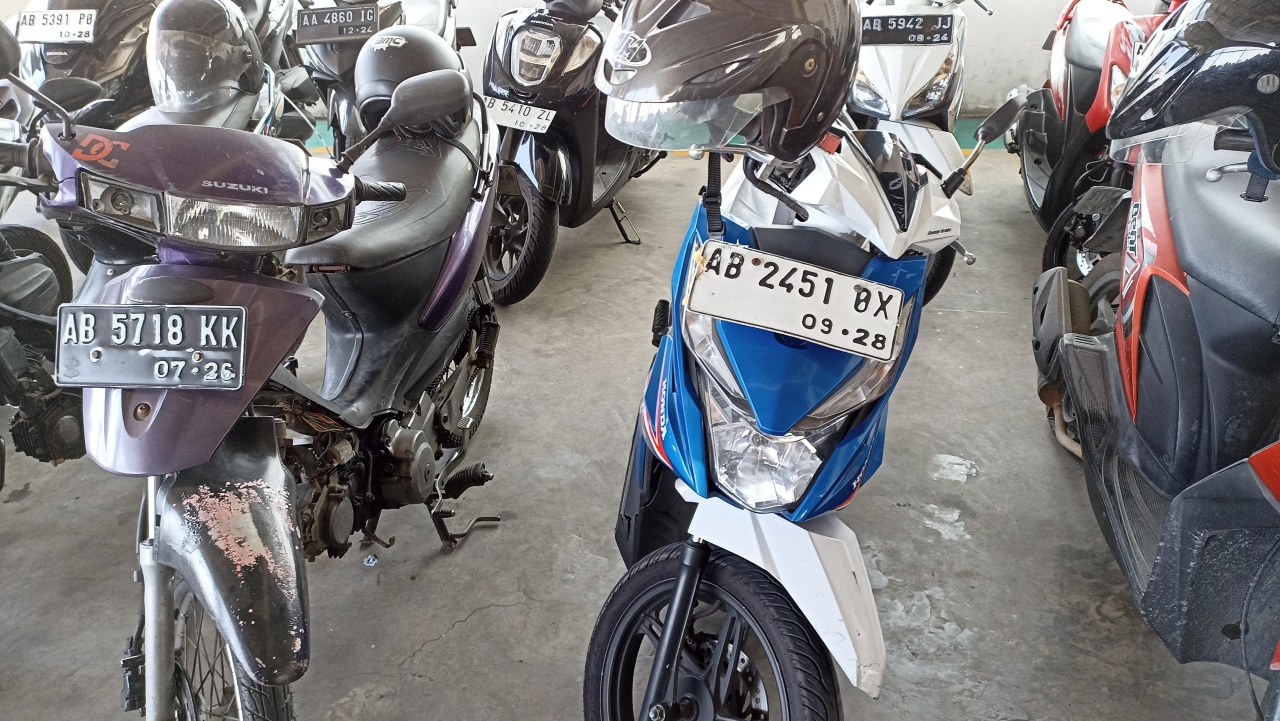plate: (685, 239, 904, 363), (58, 277, 246, 390)
